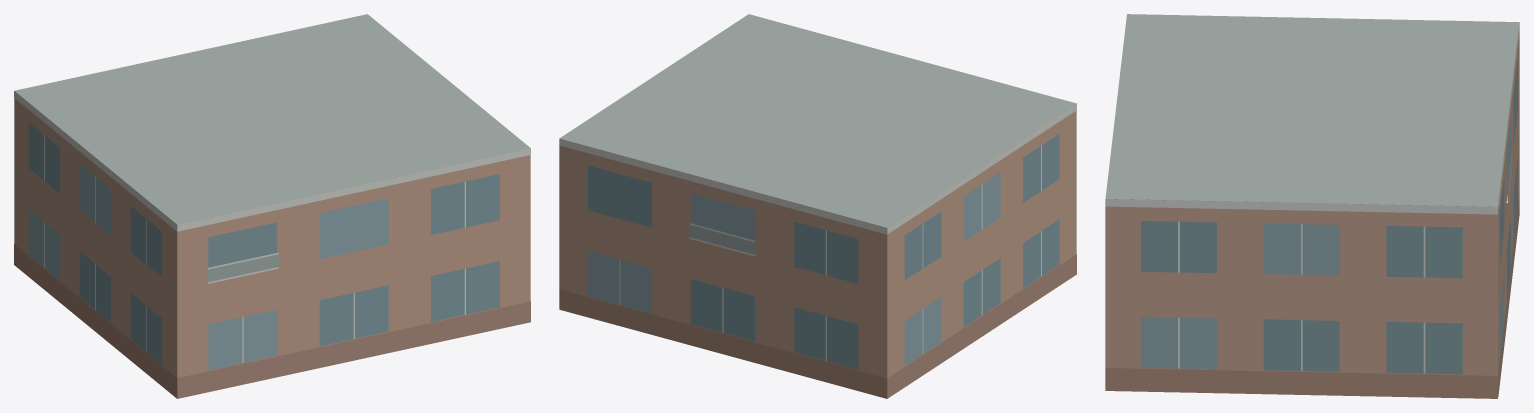
The model's file is survey-upis-32838672.glb.
3 views of the same model, side by side, from view 1: azimuth 30°, elevation 25°; view 2: azimuth 150°, elevation 25°; view 3: azimuth 270°, elevation 25° (orthographic). The views are drawn at different scales.
Visible parts, largest first — view 1: survey-upis-32838672.tmp; view 2: survey-upis-32838672.tmp; view 3: survey-upis-32838672.tmp.
Part boxes in pixels (left/top/right/bottom): survey-upis-32838672.tmp: left=14, top=14, right=530, bottom=398; survey-upis-32838672.tmp: left=559, top=14, right=1076, bottom=398; survey-upis-32838672.tmp: left=1105, top=14, right=1519, bottom=398.
Bounding box in the file's own units: 13.15 × 6.1 × 11.94.
